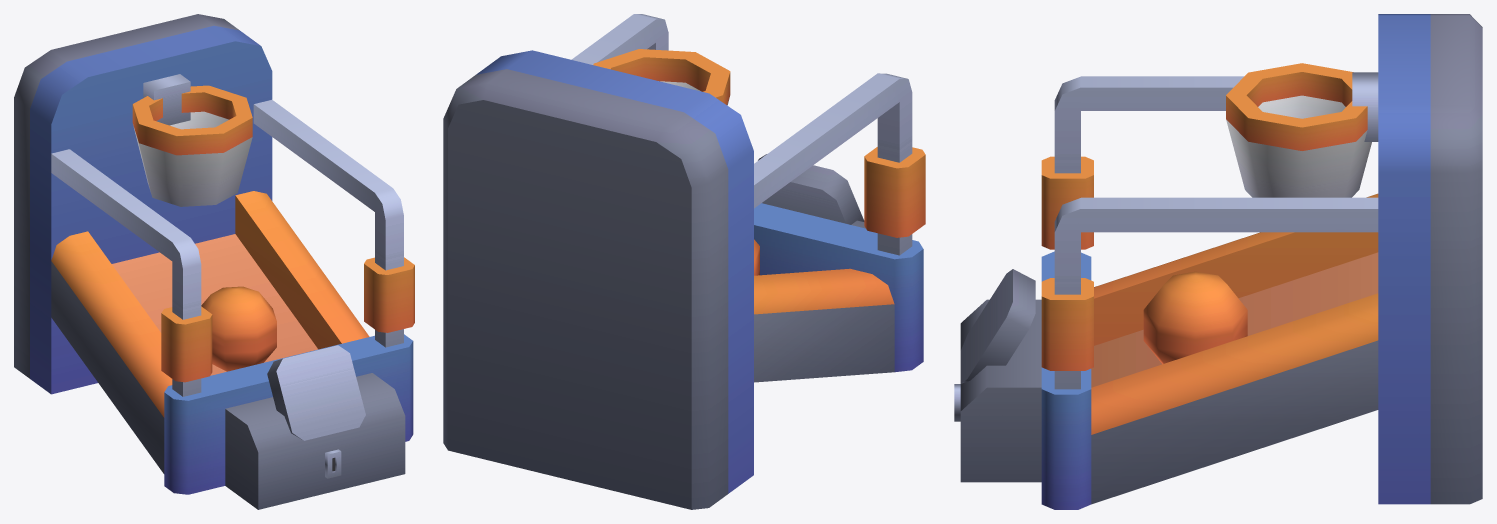
Rendered from basketball-game.glb.
The picture shows the model from 3 angles, left to right: view 1: azimuth 30°, elevation 25°; view 2: azimuth 150°, elevation 25°; view 3: azimuth 270°, elevation 25°; orthographic projection. The views are drawn at different scales.
Visible parts, largest first — view 1: basketball-game; view 2: basketball-game; view 3: basketball-game.
Boxes of the visible parts, x1,y1,x2,y2 form: basketball-game: (14,14,414,509); basketball-game: (443,14,925,509); basketball-game: (954,14,1482,509).
Bounding box in the file's own units: 0.65 × 0.8 × 1.01.
1 material, 1 textured.
